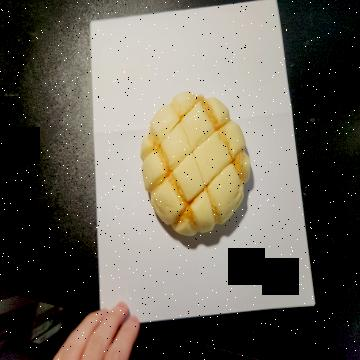melon_bread: (141, 92, 252, 242)
